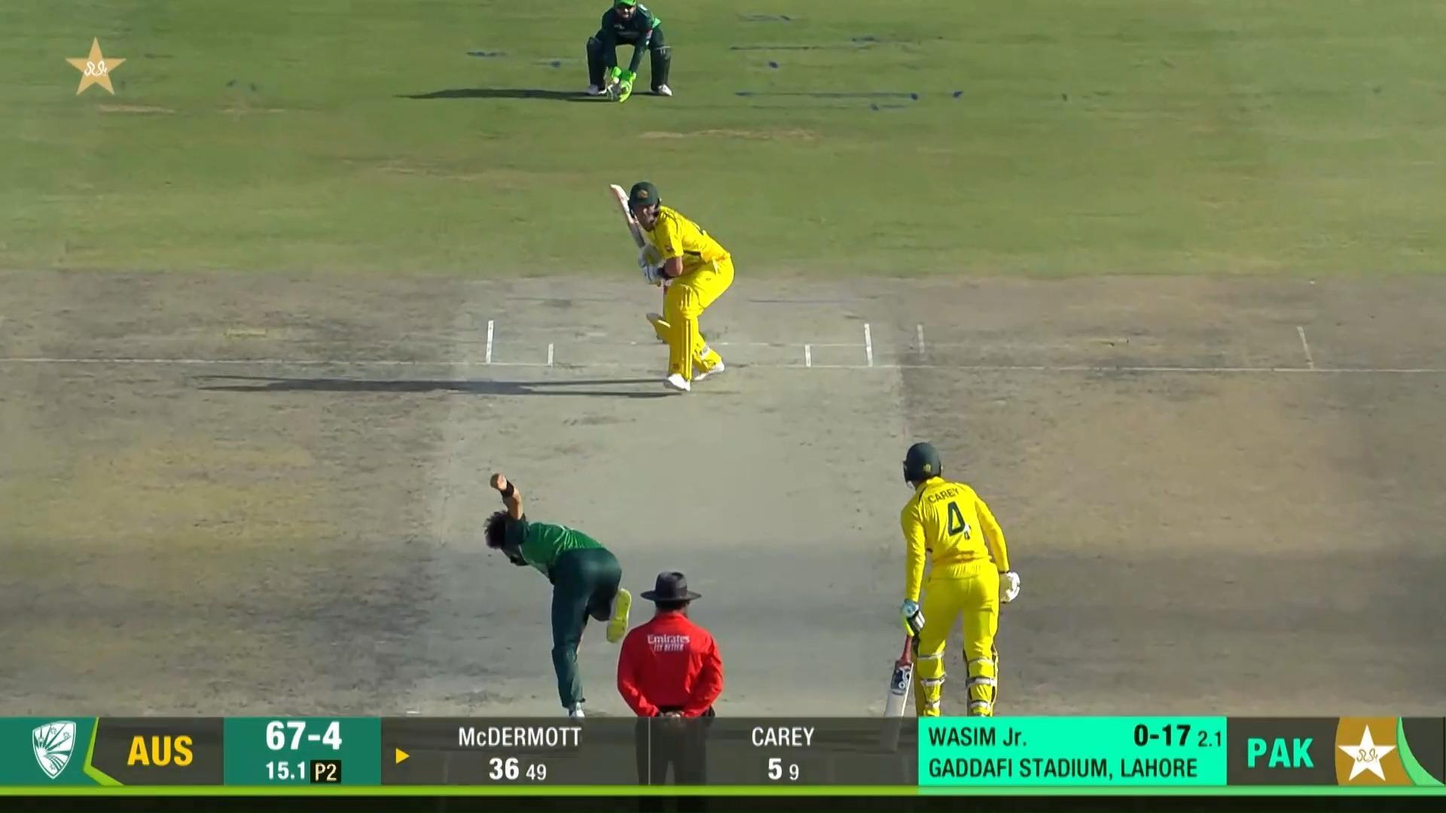BM 1: (610, 181, 734, 393)
BO: (483, 470, 632, 730)
